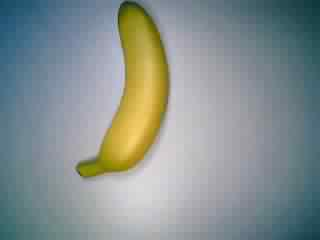banana: (75, 1, 174, 181)
